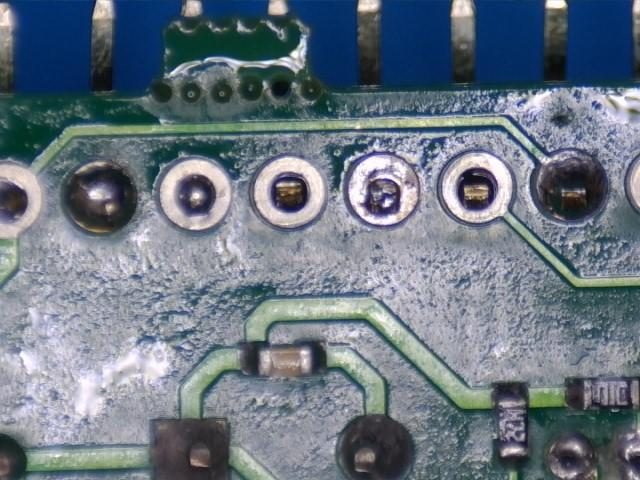pcb_defect: (64, 161, 136, 233), (348, 156, 420, 225), (160, 160, 231, 229)
